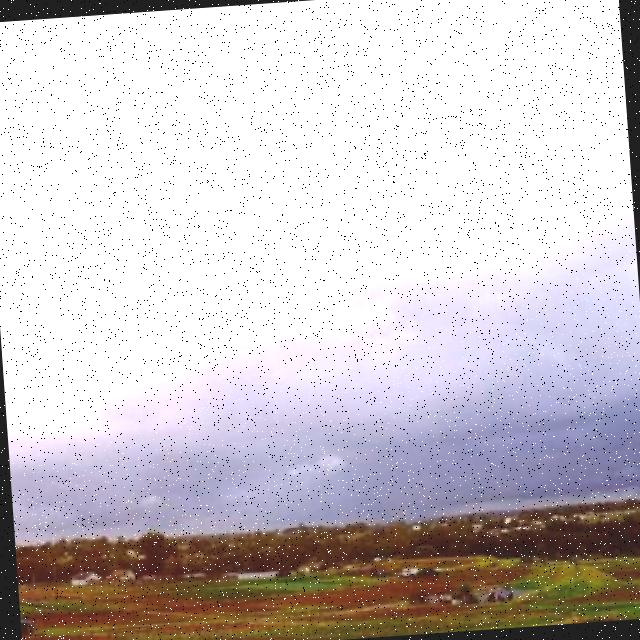Ns: (1, 16, 640, 508)
